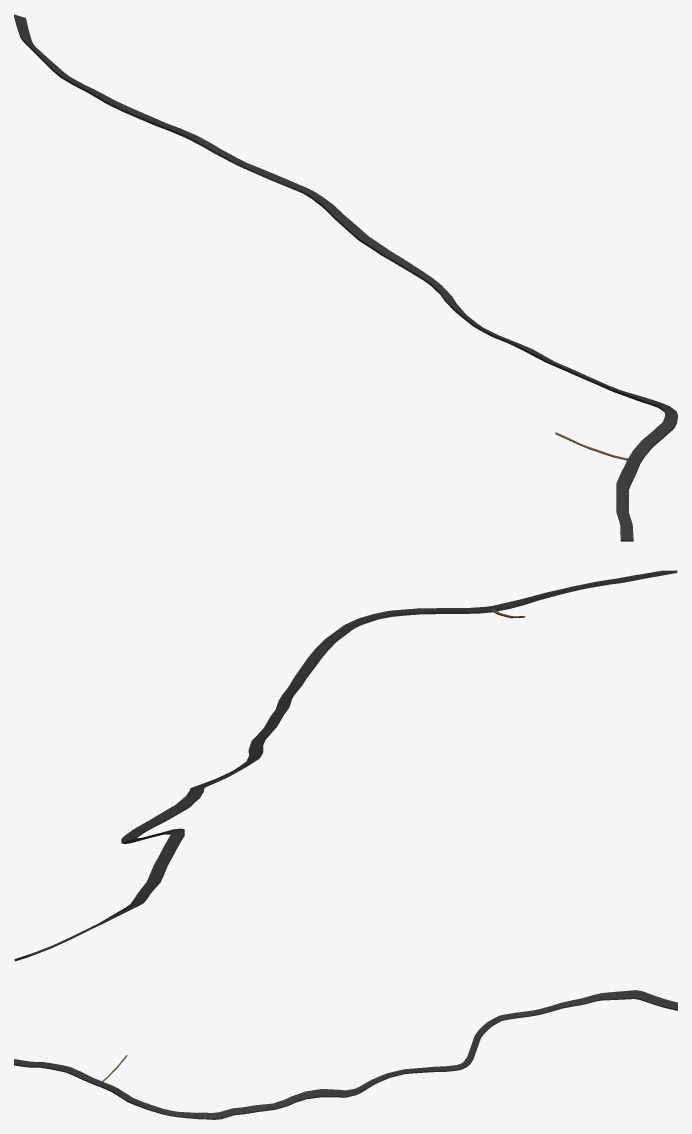
3 views of the same model, one above another, from view 1: azimuth 30°, elevation 25°; view 2: azimuth 150°, elevation 25°; view 3: azimuth 270°, elevation 25° (orthographic). The views are drawn at different scales.
Bounding box in the file's own units: 128 × 69.01 × 583.
